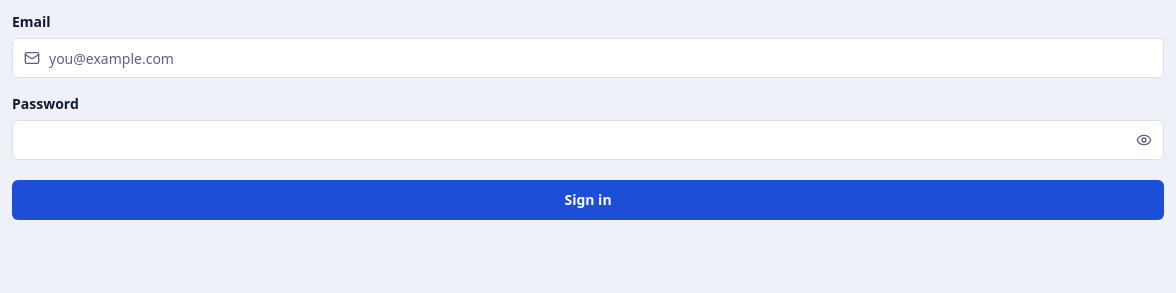
LoginForm › shows the server's message when the credentials are wrong
The image size is (1176, 293).
In the field labelled "Email": (588, 58) [12, 38, 1164, 78], type "ada@example.com"
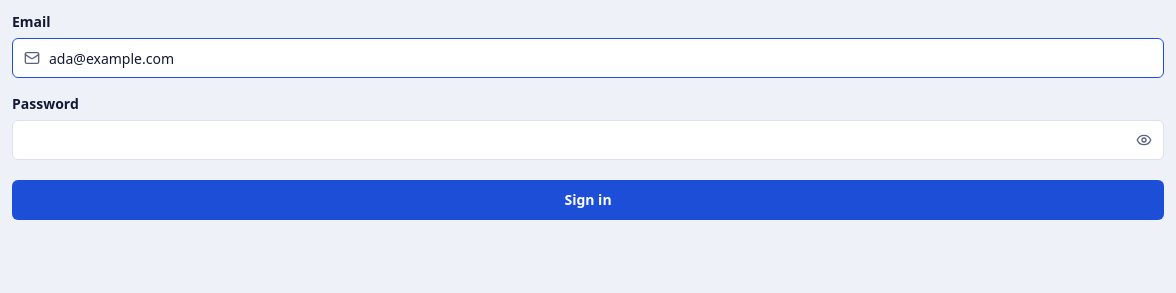
In the password field labelled "Password": (588, 140) [12, 120, 1164, 160], type "wrong"
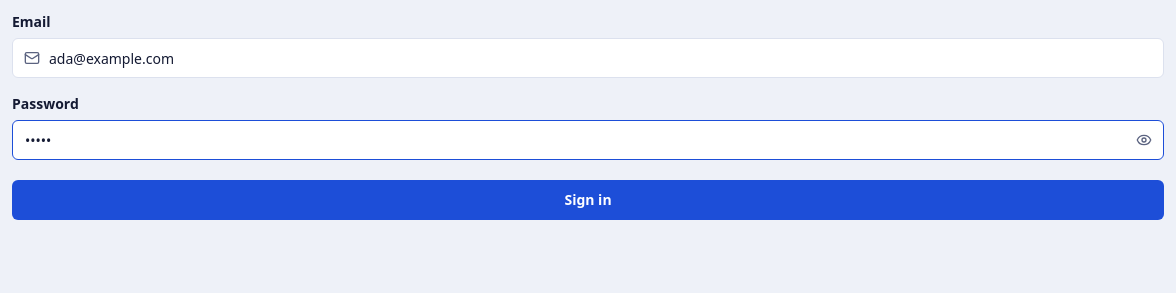
Click the button "Sign in": (588, 200) [12, 180, 1164, 220]
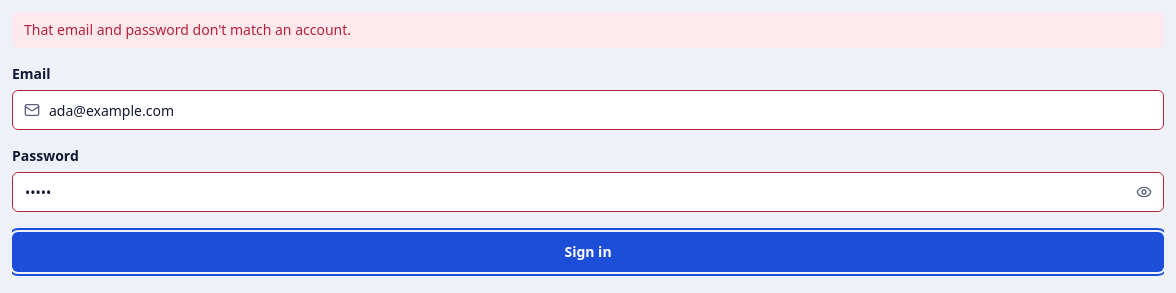
Expected: the message reads "That email and password don't match an account.", [24, 20, 351, 39]
